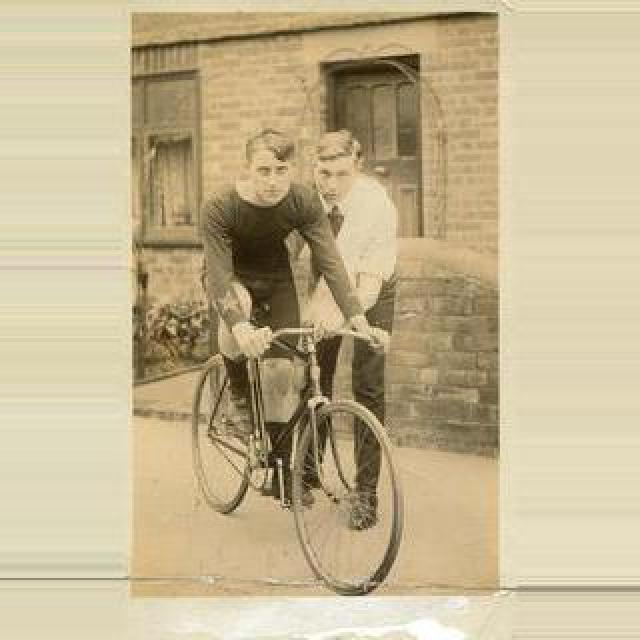MC-Bike: (200, 128, 370, 536), (306, 130, 398, 430)
Person: (190, 330, 396, 594)
